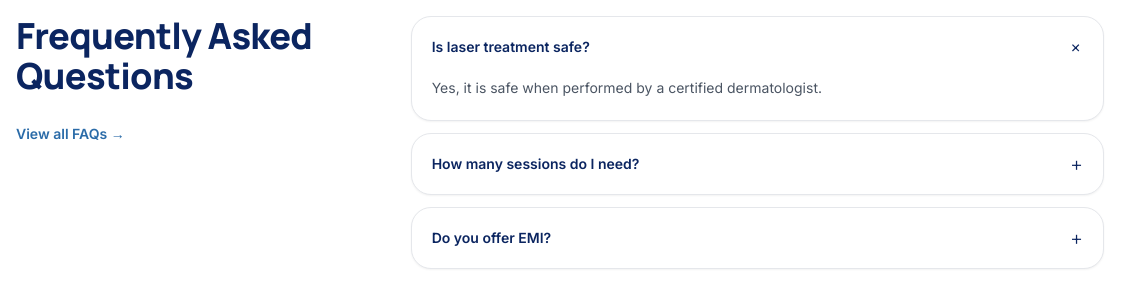
Test case: FAQAccordion › opens another question when clicked
The image size is (1121, 286).
Click the text "How many sessions do I need?" at {"x": 544, "y": 164}, box [432,154,656,174]
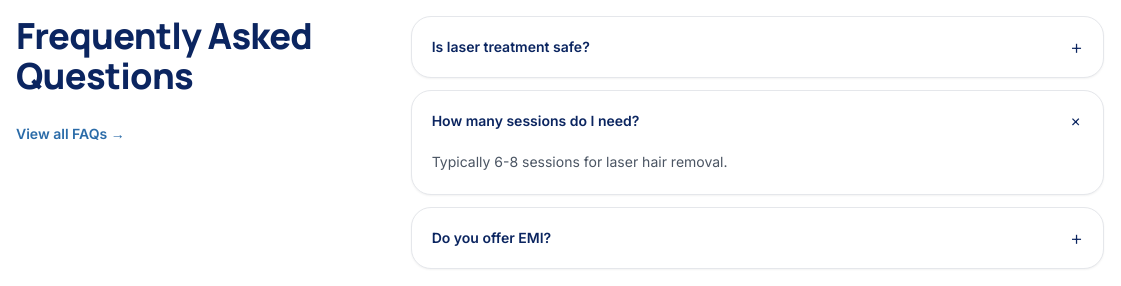
Expected: the text "Typically 6-8 sessions for laser hair removal." is shown, [432,153,728,170]
